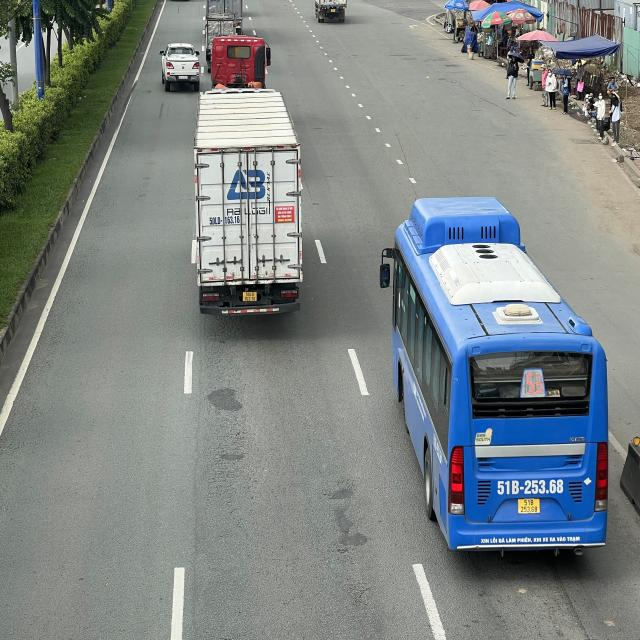car: (160, 42, 202, 90)
coach: (381, 198, 609, 555)
container: (194, 34, 303, 318)
